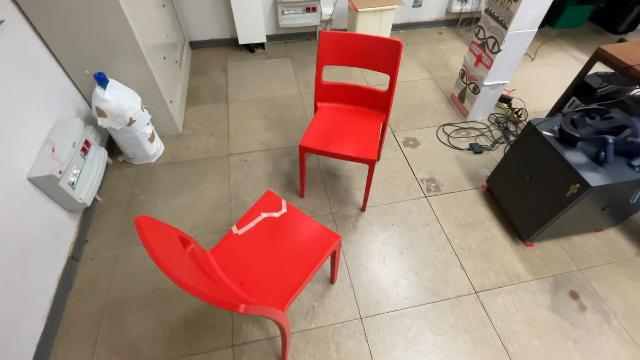Chair: (130, 188, 346, 360), (296, 27, 404, 215)
